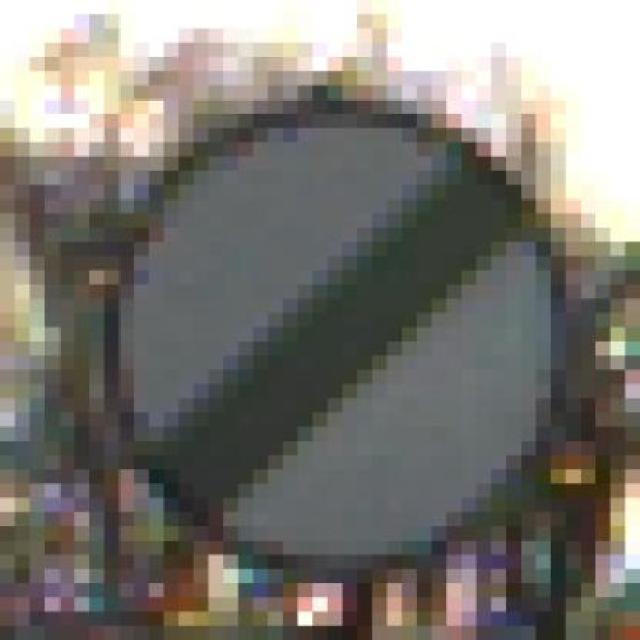End of all speed and passing limits: (90, 85, 596, 583)
